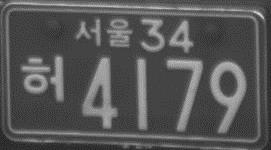1: (132, 56, 150, 132)
3: (139, 17, 165, 52)
4: (80, 55, 120, 131), (167, 18, 194, 53)
7: (164, 57, 205, 131)
9: (209, 60, 247, 134)
서울_O: (74, 17, 132, 48)
허: (19, 53, 66, 103)
